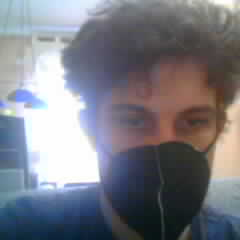with_mask: (92, 53, 220, 236)
